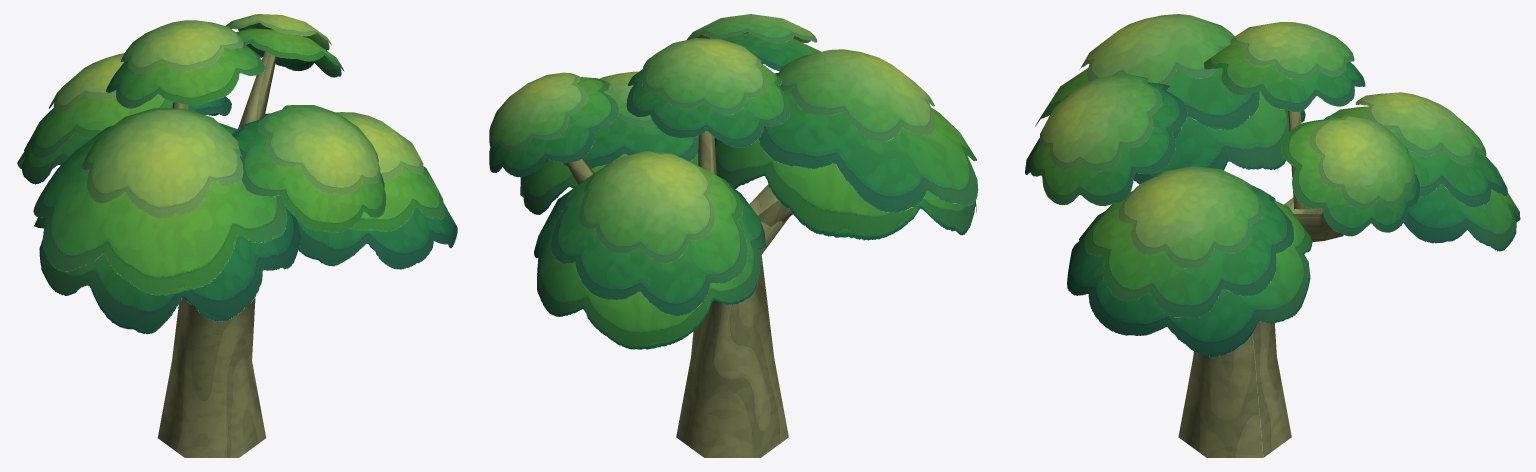
Rendered from Tree_01.fbx.
3 views of the same model, side by side, from view 1: azimuth 30°, elevation 25°; view 2: azimuth 150°, elevation 25°; view 3: azimuth 270°, elevation 25° (orthographic). The views are drawn at different scales.
Parts seen in each view (by area): view 1: Tree_01; view 2: Tree_01; view 3: Tree_01.
Boxes of the visible parts, box(x1,y1,x2,y2) form: Tree_01: box(17, 14, 457, 457); Tree_01: box(489, 14, 978, 457); Tree_01: box(1025, 14, 1520, 457).
Bounding box in the file's own units: 327 × 300 × 334.
1 material, 1 textured.
